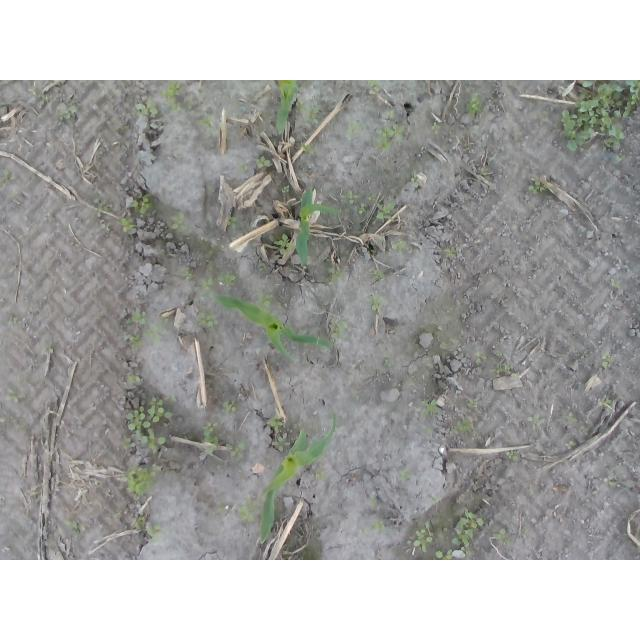Maize: (259, 410, 338, 544), (185, 294, 336, 362), (295, 188, 340, 265), (274, 81, 298, 136)
Weeds: (561, 80, 640, 165), (123, 395, 178, 454), (452, 508, 484, 556), (121, 467, 159, 502), (375, 124, 405, 152), (157, 80, 181, 114), (143, 319, 169, 346), (412, 523, 433, 554), (202, 421, 219, 455), (239, 496, 261, 521), (130, 193, 154, 215), (255, 289, 274, 315), (274, 234, 296, 255), (135, 98, 158, 117), (366, 293, 389, 311), (328, 320, 348, 340), (56, 104, 79, 121), (466, 91, 482, 115), (528, 178, 552, 194), (216, 271, 236, 289), (225, 214, 247, 230), (377, 203, 396, 221), (422, 399, 441, 417), (170, 211, 187, 231), (196, 312, 217, 328), (345, 121, 364, 138), (225, 442, 244, 459), (126, 311, 147, 326), (266, 415, 283, 433), (124, 334, 143, 350), (271, 435, 290, 451), (453, 419, 472, 435), (93, 197, 109, 215), (147, 525, 163, 543), (493, 529, 512, 544), (305, 107, 320, 125), (492, 363, 511, 377), (0, 170, 16, 186), (328, 267, 345, 282), (200, 116, 215, 132), (120, 217, 136, 232), (223, 399, 238, 415), (341, 190, 357, 205), (5, 389, 20, 404), (391, 240, 407, 254), (528, 414, 545, 427), (301, 141, 316, 155), (64, 519, 79, 533), (254, 156, 270, 169), (200, 277, 213, 293), (399, 467, 412, 482), (30, 86, 46, 98), (602, 352, 614, 368), (436, 549, 453, 560), (444, 247, 461, 258), (235, 161, 249, 174), (371, 520, 385, 533), (366, 80, 381, 92), (411, 170, 421, 188), (181, 268, 194, 281), (132, 516, 144, 530), (315, 467, 327, 481), (538, 110, 550, 124), (476, 350, 487, 365), (604, 475, 617, 487), (431, 121, 442, 135), (42, 343, 55, 354), (373, 269, 386, 280), (127, 374, 141, 384), (563, 413, 577, 423), (295, 101, 306, 113), (597, 398, 611, 407), (506, 451, 519, 460), (257, 262, 267, 273), (216, 501, 226, 512), (385, 109, 395, 120), (480, 166, 491, 176), (358, 202, 367, 214), (611, 278, 621, 288), (467, 400, 478, 409), (369, 496, 376, 509), (423, 426, 433, 435), (565, 441, 575, 449), (360, 527, 367, 538), (366, 196, 378, 202), (355, 390, 362, 400), (384, 358, 392, 366), (187, 100, 194, 109), (282, 186, 290, 193), (495, 350, 502, 356), (371, 249, 378, 254)
